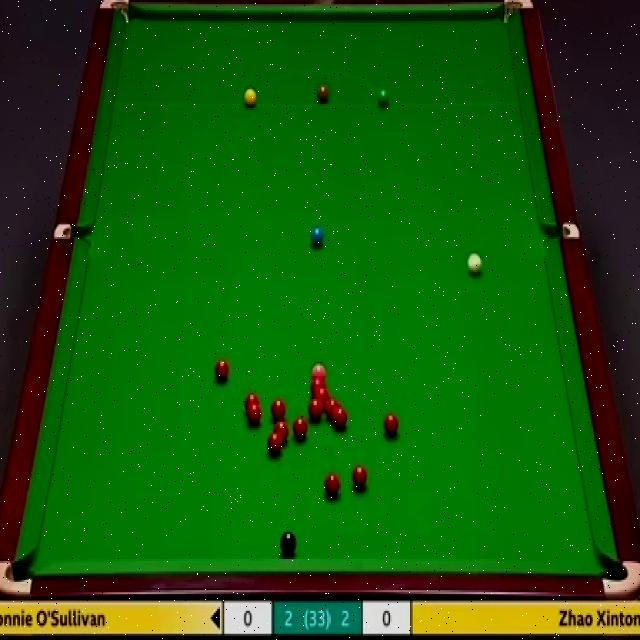black-ball: (278, 528, 297, 553)
blue-ball: (310, 227, 325, 245)
brown-ball: (318, 85, 329, 103)
green-ball: (376, 85, 391, 108)
pink-ball: (311, 364, 328, 378)
red-ball: (324, 472, 342, 499), (382, 409, 399, 437), (351, 464, 369, 488), (293, 414, 309, 439), (214, 357, 230, 382), (331, 406, 348, 428), (308, 398, 323, 422), (269, 430, 285, 452), (270, 398, 287, 418), (274, 423, 290, 443), (249, 402, 262, 426), (324, 395, 338, 415), (314, 386, 328, 406), (244, 392, 257, 412), (308, 378, 325, 392)
white-ball: (467, 254, 483, 273)
yellow-ball: (244, 88, 257, 109)
